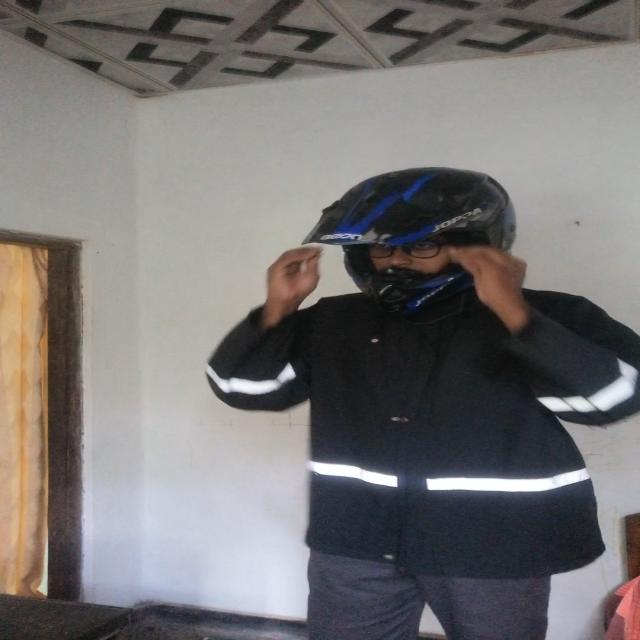Helmet_Wearer: (277, 160, 539, 318)
Jacket_Wearer: (204, 275, 640, 580)
Person: (218, 164, 640, 614)
